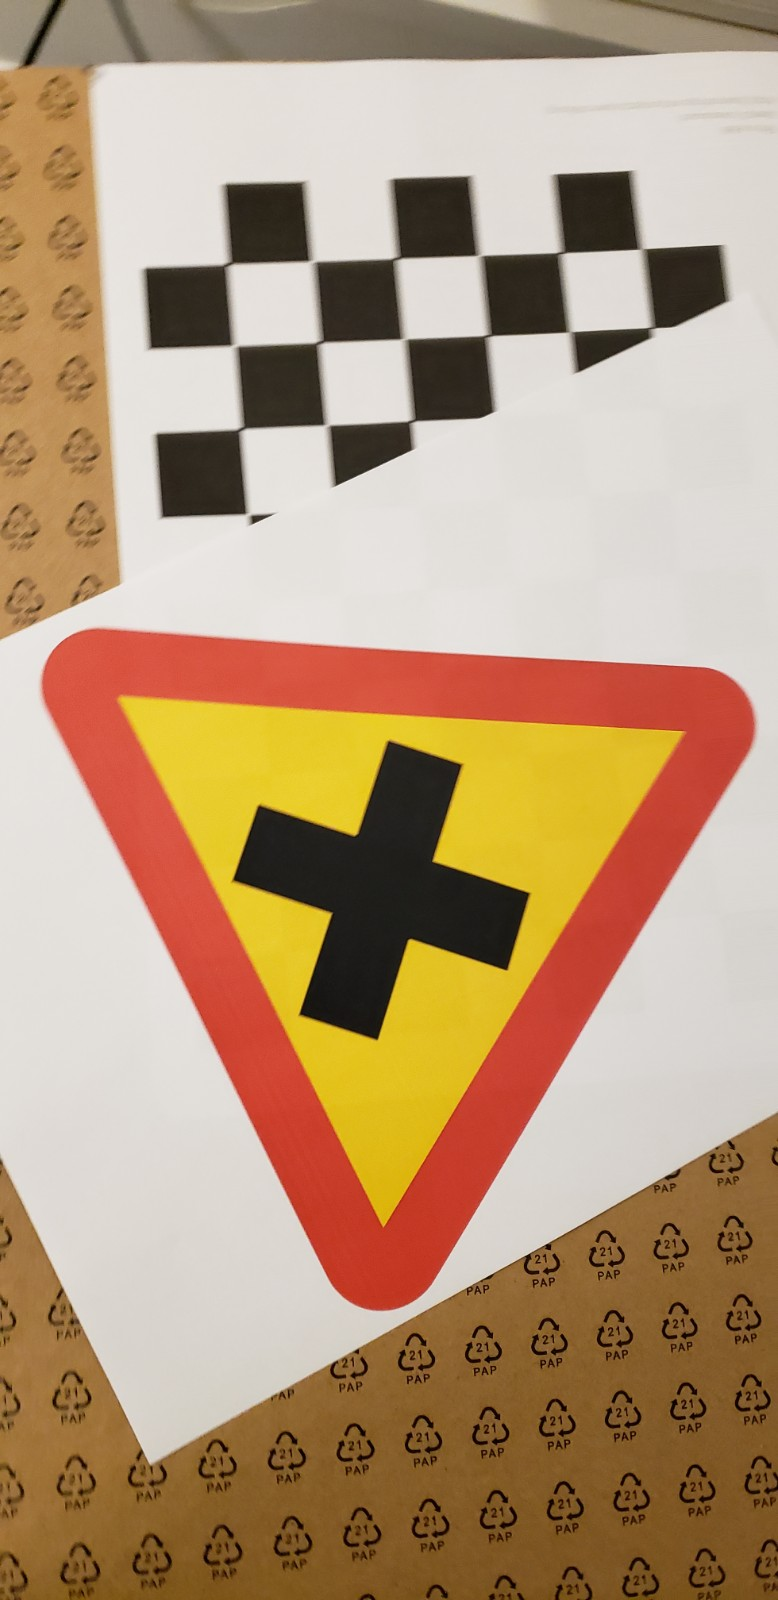junction: (32, 604, 742, 1346)
